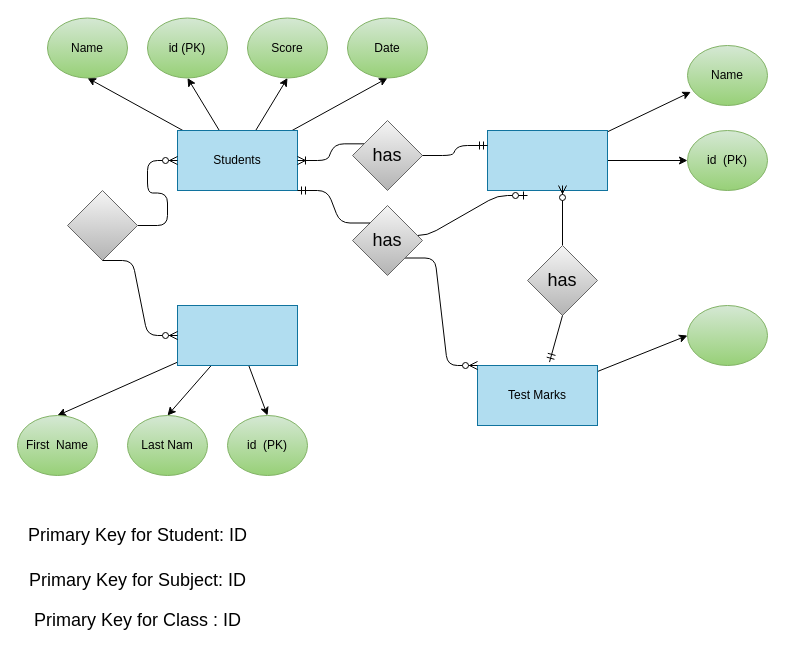
Image size: 785x652. Some labels were removed from this diagram. Here are the shapes that lost their labels. From the top down, the centre of each, then its label:
At [547,160]: "Subjects".
At [102,225]: "Learn".
At [237,335]: "Class".
At [727,335]: "Result".
